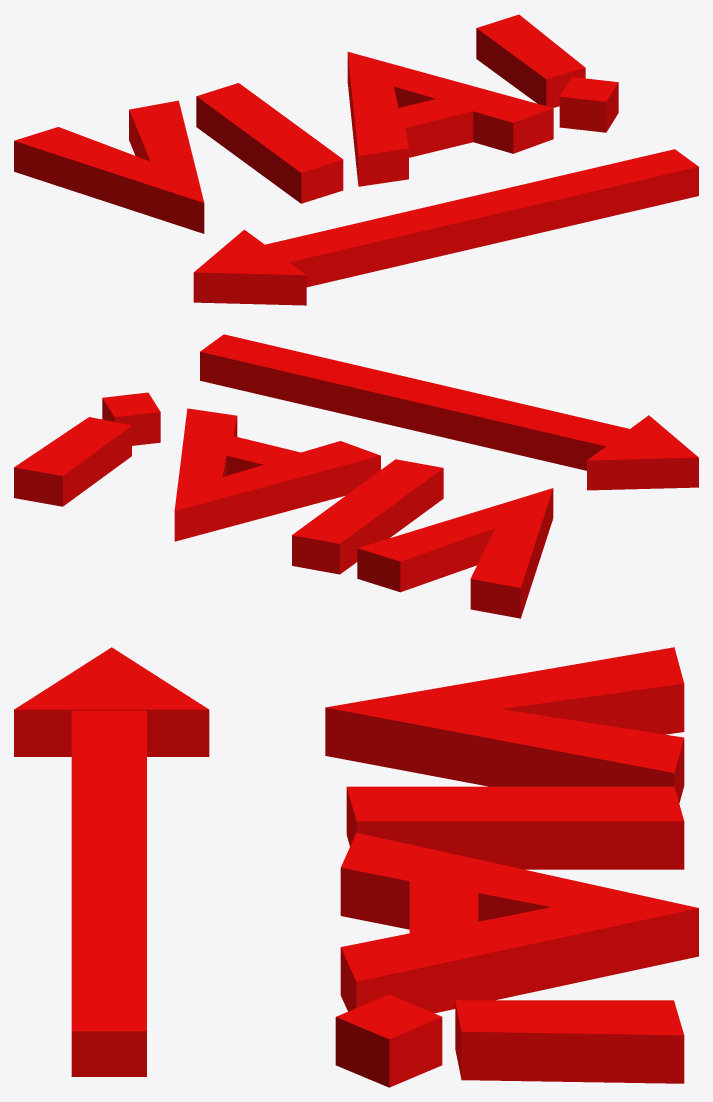
The model's file is 00_Title.fbx.
3 views of the same model, one above another, from view 1: azimuth 30°, elevation 25°; view 2: azimuth 150°, elevation 25°; view 3: azimuth 270°, elevation 25° (orthographic). The views are drawn at different scales.
Visible parts, largest first — view 1: VIA_1, Component_1_1; view 2: VIA_1, Component_1_1; view 3: VIA_1, Component_1_1.
Boxes of the visible parts, x1,y1,x2,y2 form: VIA_1: (14,14,618,233); Component_1_1: (193,149,698,305); VIA_1: (14,392,553,618); Component_1_1: (200,334,698,490); VIA_1: (325,647,698,1087); Component_1_1: (14,647,209,1076).
Bounding box in the file's own units: 0.5211 × 0.0333 × 0.3847.
